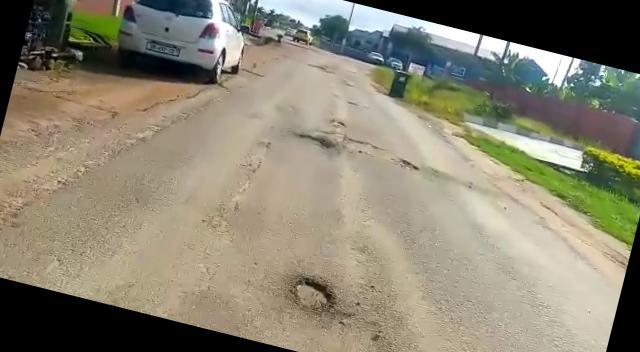pothole: (338, 136, 428, 174), (285, 272, 342, 320), (294, 130, 340, 152)
